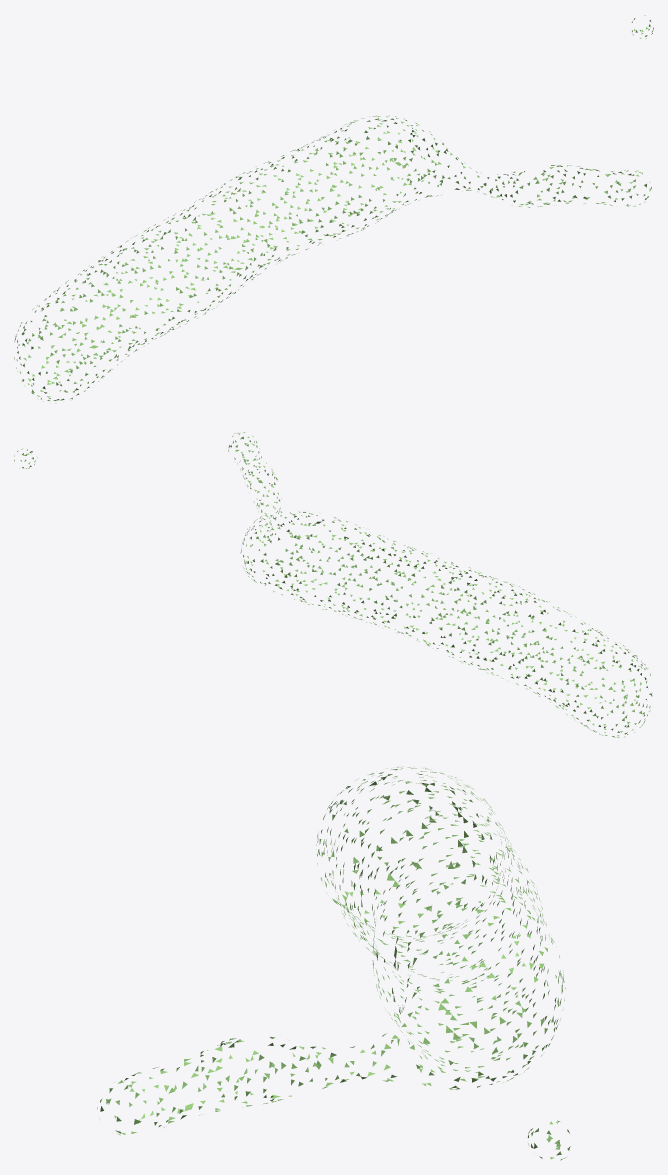
File: morph_014.glb
The picture shows the model from 3 angles, top to bottom: view 1: azimuth 30°, elevation 25°; view 2: azimuth 150°, elevation 25°; view 3: azimuth 270°, elevation 25°; orthographic projection. The views are drawn at different scales.
Bounding box in the file's own units: 129 × 36.66 × 44.65.
